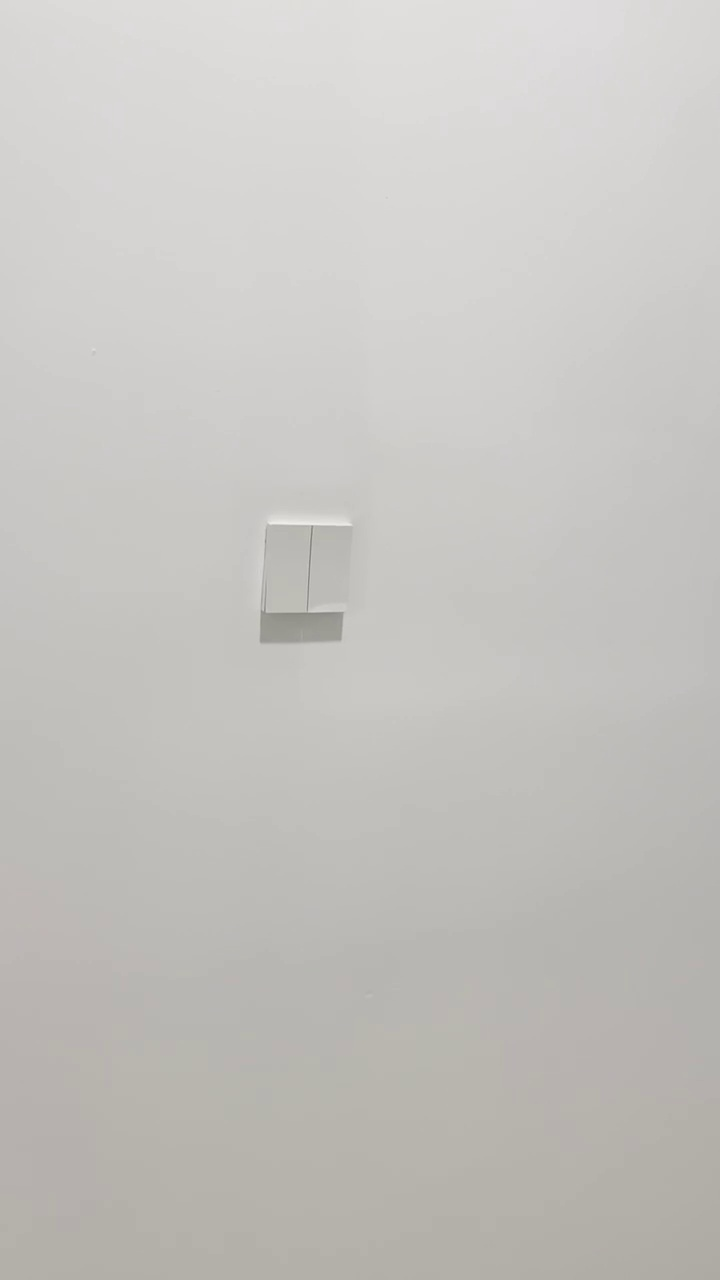button: (262, 517, 358, 617)
